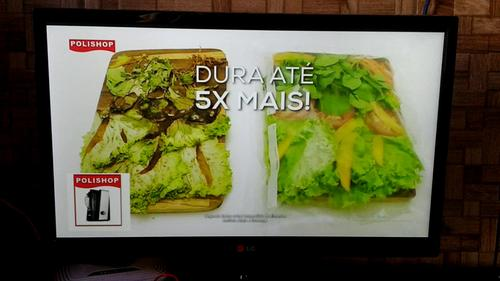Polishop #1: (68, 172, 130, 230)
